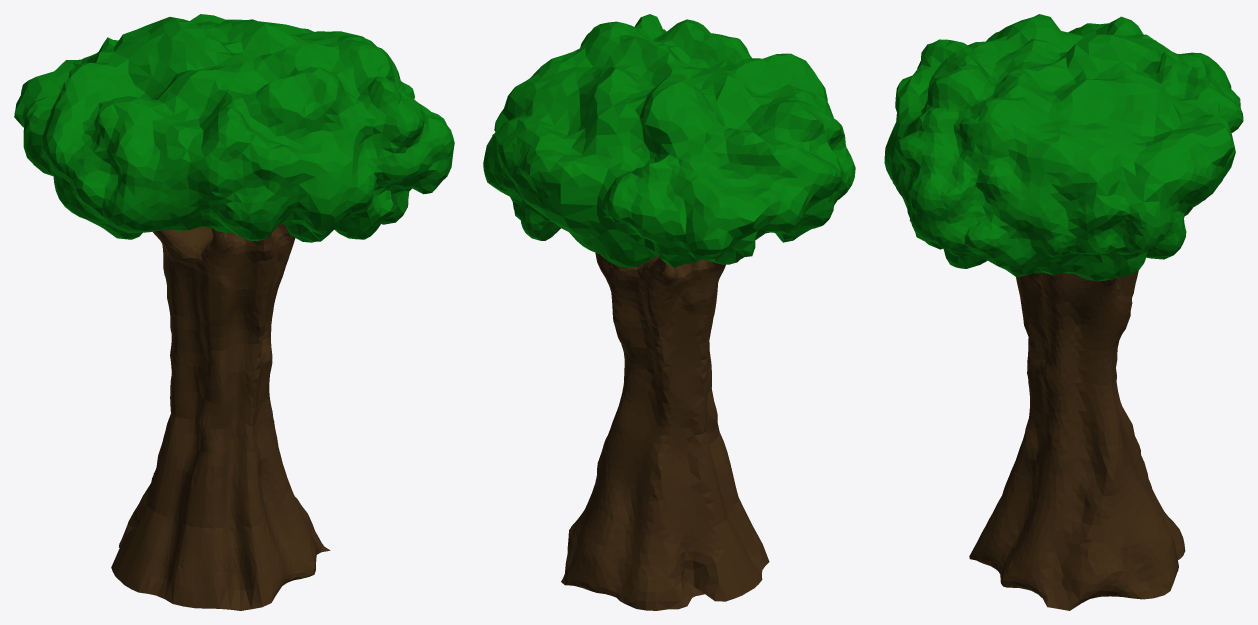
File: Foliage_Tree_1.fbx
3 renders of one model, left to right at view 1: azimuth 30°, elevation 25°; view 2: azimuth 150°, elevation 25°; view 3: azimuth 270°, elevation 25°, orthographic. The views are drawn at different scales.
Parts seen in each view (by area): view 1: Tree_1; view 2: Tree_1; view 3: Tree_1.
Boxes of the visible parts, left/top/right/bottom form: Tree_1: left=14, top=14, right=454, bottom=610; Tree_1: left=483, top=14, right=855, bottom=610; Tree_1: left=884, top=14, right=1243, bottom=610.
Size of the model in its own units: 132 by 197 by 123.
